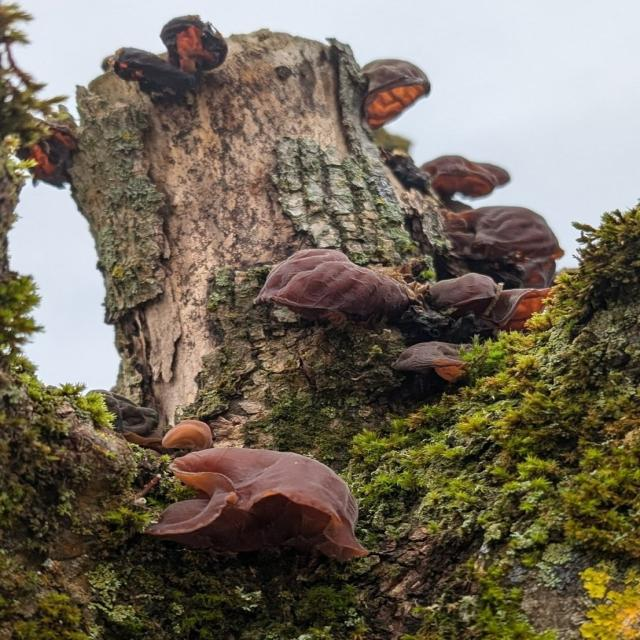Fase Muda: (157, 416, 219, 450)
Matang: (154, 444, 375, 566), (256, 244, 417, 336), (426, 268, 574, 327), (444, 204, 570, 268), (354, 51, 434, 133), (418, 155, 522, 200), (391, 338, 477, 380)
